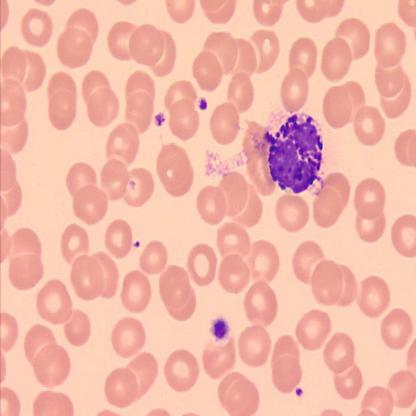Basophil: (262, 106, 328, 199)
